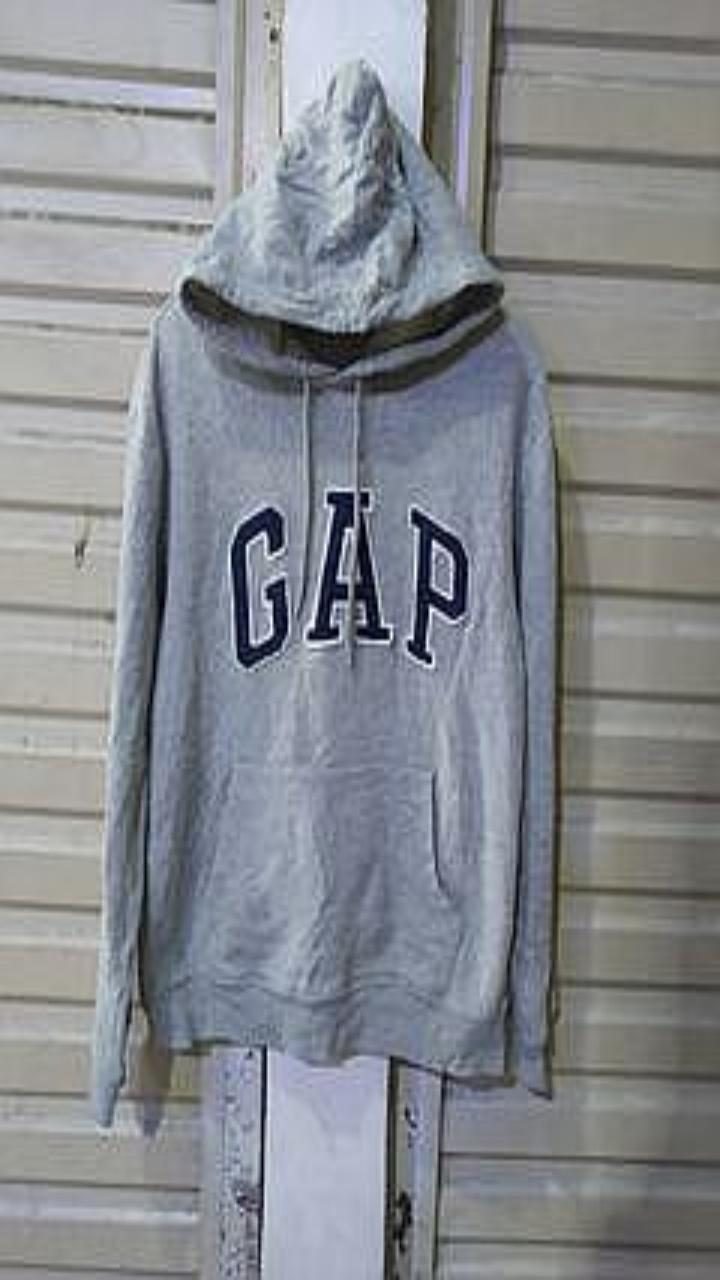Hoodie: (92, 60, 556, 1126)
